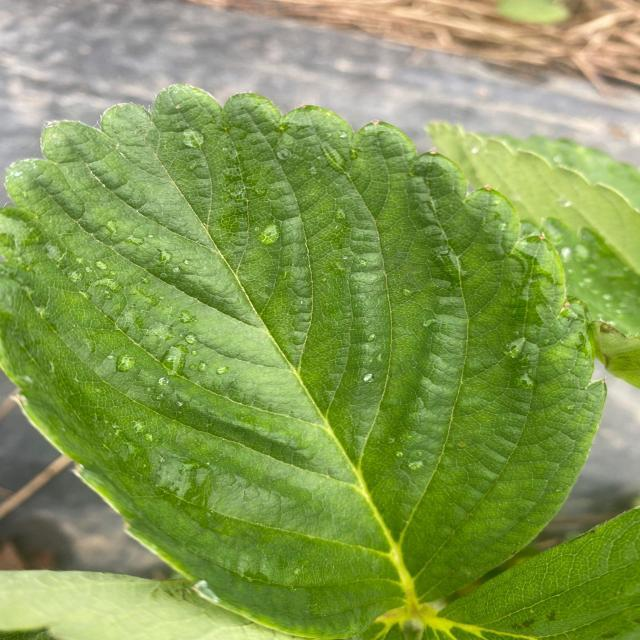flower: (0, 86, 631, 640)
